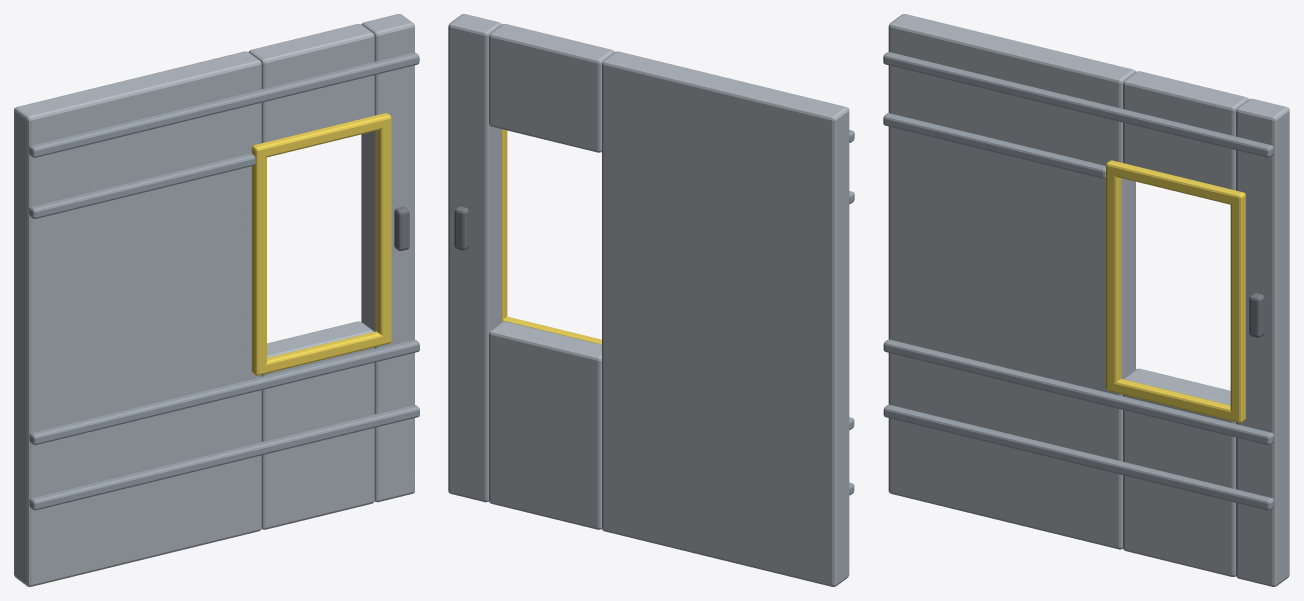
The model's file is дверь1.glb.
3 renders of one model, left to right at view 1: azimuth 30°, elevation 25°; view 2: azimuth 150°, elevation 25°; view 3: azimuth 330°, elevation 25°, orthographic.
Parts seen in each view (by area): view 1: GateLeaf_Mesh; view 2: GateLeaf_Mesh; view 3: GateLeaf_Mesh.
Boxes of the visible parts, <box> form: GateLeaf_Mesh: <box>14,14,419,586</box>; GateLeaf_Mesh: <box>448,14,854,586</box>; GateLeaf_Mesh: <box>883,14,1289,586</box>.
Bounding box in the file's own units: 1.99 × 2.31 × 0.2222.
